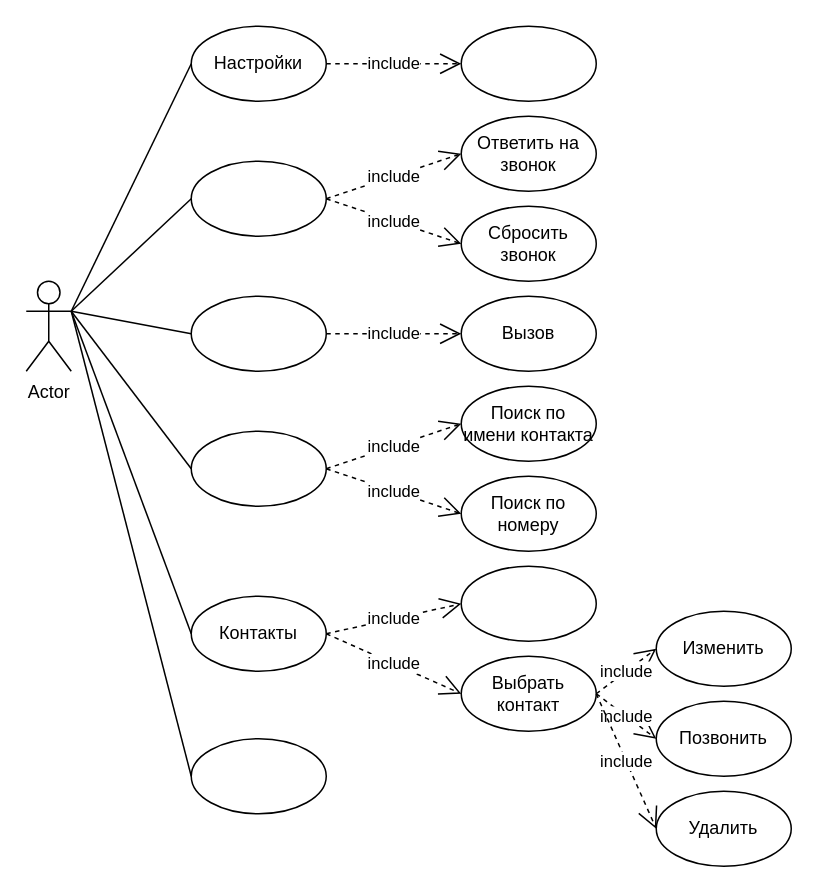
The diagram is 818 pixels wide and 893 high, and some of its shapes have lost their labels. The box of each missing label's shape, as (x1, y1, x2, y2) in pixels:
Добавить контакт: (460, 565, 596, 641)
Звонок: (190, 160, 326, 236)
Изменить настройки: (460, 25, 596, 101)
Набор номера: (190, 295, 326, 371)
Поиск: (190, 430, 326, 506)
Просмотреть последние вызовы: (190, 737, 326, 814)
